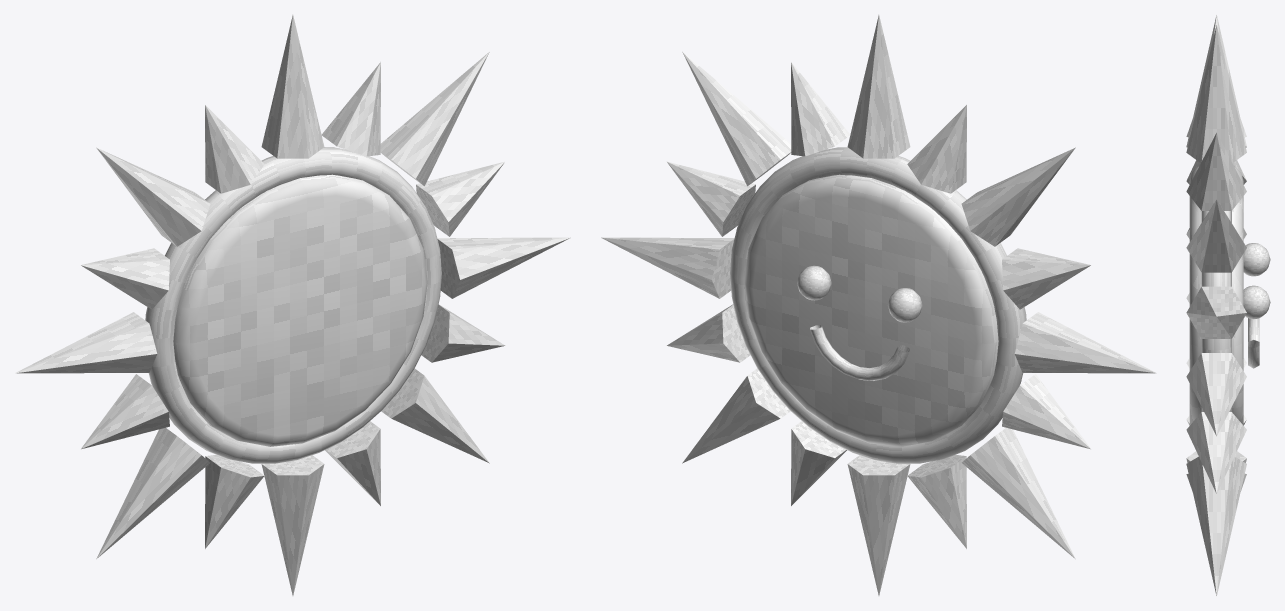
File: sun.obj
The picture shows the model from 3 angles, left to right: view 1: azimuth 30°, elevation 25°; view 2: azimuth 150°, elevation 25°; view 3: azimuth 270°, elevation 25°; orthographic projection. The views are drawn at different scales.
Size of the model in its own units: 0.95 by 0.95 by 0.1291.
